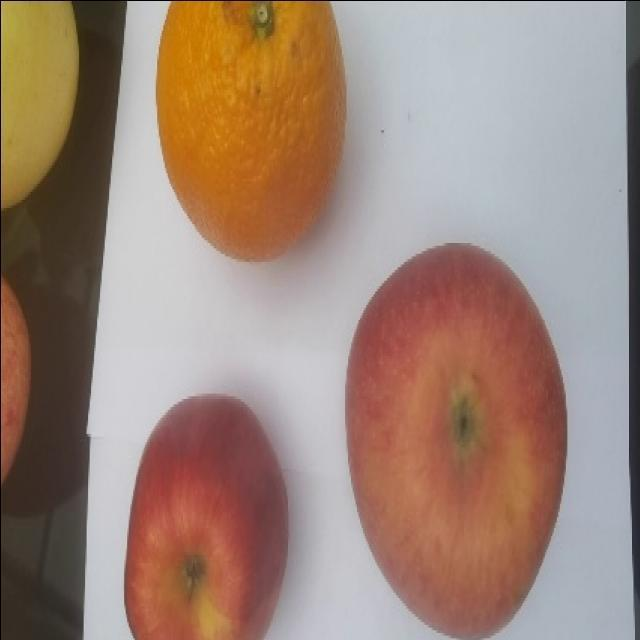Apple: (344, 241, 568, 638), (123, 393, 289, 639), (0, 275, 32, 485)
Orange: (154, 0, 347, 262)
